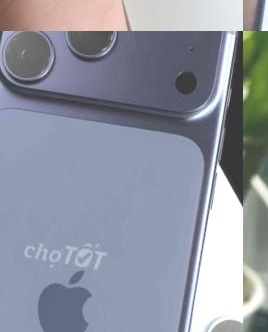physical_damage: (246, 243, 268, 332)
